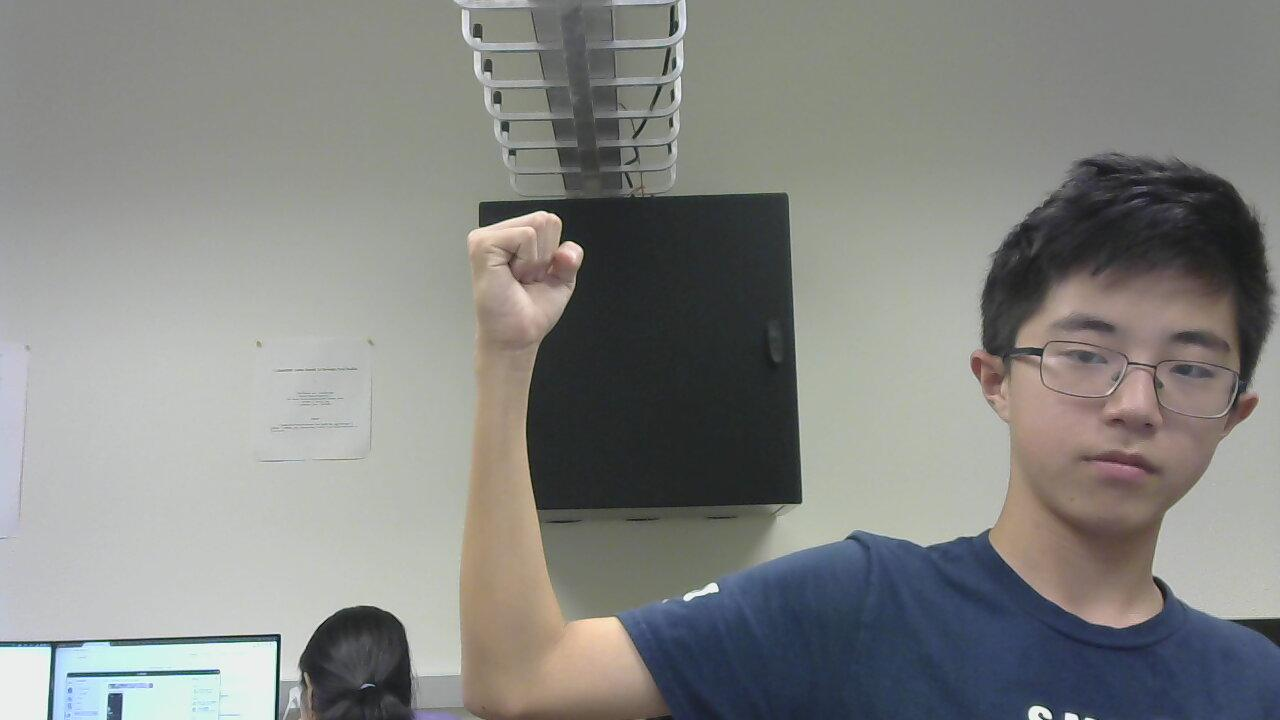fist: (451, 197, 595, 361)
